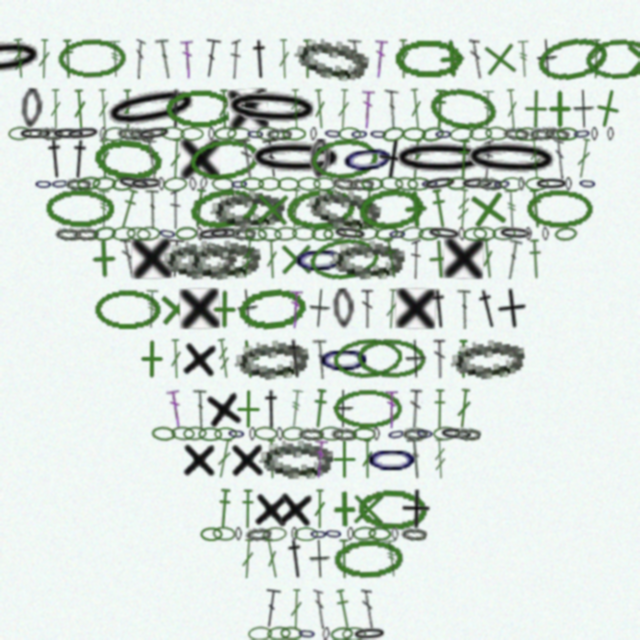chain: (99, 80, 204, 137), (221, 86, 323, 131), (461, 137, 562, 181), (246, 138, 346, 179), (304, 183, 383, 234), (292, 33, 371, 84), (534, 32, 610, 85), (390, 139, 490, 179), (187, 184, 260, 234), (307, 234, 381, 283), (449, 335, 526, 382), (427, 84, 500, 133), (187, 135, 261, 183), (233, 336, 310, 382), (185, 236, 262, 282), (284, 185, 356, 232), (236, 285, 307, 332), (356, 185, 427, 232), (92, 136, 163, 182), (210, 187, 285, 230), (332, 336, 403, 381), (162, 238, 237, 280), (330, 238, 405, 280), (309, 136, 379, 181), (356, 337, 427, 380), (259, 438, 333, 479), (333, 538, 403, 580), (357, 488, 427, 530), (45, 188, 114, 229), (57, 38, 126, 79), (333, 389, 403, 429), (165, 89, 234, 129), (94, 289, 162, 329), (526, 189, 594, 229), (394, 39, 462, 79), (338, 136, 398, 181), (584, 37, 640, 80), (0, 34, 48, 84), (291, 238, 348, 280), (364, 439, 420, 479), (316, 339, 372, 379), (332, 288, 355, 329), (20, 88, 43, 129), (309, 139, 331, 179), (116, 174, 152, 193), (422, 174, 458, 193), (136, 124, 172, 143), (196, 225, 232, 243), (332, 225, 368, 242), (426, 225, 462, 242), (65, 125, 101, 142), (439, 426, 474, 442), (208, 226, 243, 241), (498, 226, 533, 241), (129, 176, 164, 191), (460, 176, 495, 191), (352, 626, 387, 640), (534, 177, 569, 191), (18, 127, 53, 141), (51, 127, 86, 141), (331, 175, 358, 192), (543, 125, 570, 142), (381, 125, 406, 143), (420, 125, 445, 143), (399, 225, 425, 242), (245, 526, 272, 542), (128, 126, 155, 142), (92, 225, 117, 242), (374, 225, 399, 242), (76, 175, 101, 192), (111, 175, 136, 192), (262, 526, 287, 542), (126, 226, 151, 242), (257, 226, 282, 242), (163, 176, 188, 192), (394, 176, 419, 192), (102, 126, 127, 142), (449, 126, 474, 142), (402, 426, 428, 441), (230, 226, 256, 241), (476, 176, 502, 191), (37, 126, 63, 141), (117, 126, 143, 141), (503, 126, 529, 141), (529, 126, 555, 141), (244, 226, 268, 242), (554, 226, 578, 242), (211, 176, 235, 192), (352, 526, 377, 541), (151, 426, 176, 441), (111, 226, 136, 241), (136, 226, 161, 241), (379, 176, 404, 191), (160, 126, 185, 141), (401, 527, 427, 541), (298, 427, 324, 441), (331, 427, 357, 441), (455, 427, 481, 441), (55, 227, 81, 241), (73, 227, 99, 241), (65, 177, 91, 191), (348, 177, 374, 191), (266, 127, 292, 141), (212, 526, 236, 541), (171, 426, 195, 441), (183, 426, 207, 441), (254, 426, 278, 441), (281, 426, 305, 441), (319, 426, 343, 441), (433, 426, 457, 441), (292, 226, 316, 241), (355, 226, 379, 241), (492, 226, 516, 241), (92, 176, 116, 191), (8, 126, 32, 141), (157, 225, 178, 242), (368, 526, 391, 541), (175, 226, 198, 241), (274, 226, 297, 241), (473, 226, 496, 241), (446, 176, 469, 191), (214, 126, 237, 141), (256, 126, 279, 141), (469, 126, 492, 141), (485, 126, 508, 141), (248, 626, 272, 640), (267, 626, 291, 640), (330, 626, 354, 640), (294, 527, 318, 541), (198, 427, 222, 441), (352, 427, 376, 441), (386, 426, 407, 442), (323, 227, 347, 241), (463, 227, 487, 241), (240, 177, 264, 191), (297, 177, 321, 191), (407, 177, 431, 191), (500, 177, 524, 191), (525, 177, 549, 191), (180, 127, 204, 141), (227, 127, 251, 141), (282, 127, 306, 141), (402, 127, 426, 141), (515, 127, 539, 141), (280, 626, 303, 640), (200, 527, 223, 541), (214, 427, 237, 441), (311, 227, 334, 241), (418, 227, 441, 241), (258, 177, 281, 191), (277, 177, 300, 191), (313, 177, 336, 191), (361, 177, 384, 191), (338, 127, 361, 141), (556, 127, 579, 141), (492, 176, 512, 192), (342, 627, 366, 640), (415, 426, 435, 441), (50, 176, 70, 191), (420, 176, 440, 191), (323, 126, 343, 141), (572, 126, 592, 141), (324, 526, 343, 541), (227, 426, 246, 441), (578, 176, 597, 191), (297, 626, 317, 640), (309, 527, 328, 541), (388, 227, 407, 241), (34, 177, 53, 191), (230, 177, 249, 191), (246, 127, 265, 141), (350, 127, 369, 141), (369, 127, 388, 141), (434, 127, 453, 141), (199, 176, 208, 191), (391, 527, 399, 541), (276, 427, 284, 441), (196, 227, 204, 241), (458, 227, 466, 241), (189, 177, 197, 191), (99, 127, 107, 141), (322, 627, 330, 640), (235, 527, 242, 541), (291, 527, 298, 541), (347, 527, 354, 541), (249, 427, 256, 441), (373, 427, 380, 441), (525, 227, 532, 241), (542, 227, 549, 241), (158, 177, 165, 191), (518, 177, 525, 191), (565, 177, 572, 191), (208, 127, 215, 141), (310, 127, 317, 141), (591, 127, 598, 141), (607, 127, 614, 141)
double: (501, 238, 523, 280), (261, 588, 282, 629), (201, 38, 222, 79), (262, 538, 282, 579), (214, 438, 234, 479), (406, 438, 426, 479), (262, 138, 282, 179), (154, 38, 174, 79), (166, 388, 185, 429), (142, 138, 161, 179), (238, 138, 257, 179), (574, 138, 593, 179), (455, 388, 473, 429), (167, 238, 185, 279), (347, 38, 365, 79), (359, 188, 376, 229), (312, 438, 328, 479), (120, 238, 136, 279), (480, 238, 496, 279), (408, 88, 424, 129), (372, 38, 388, 79), (312, 339, 328, 379), (384, 289, 400, 329), (168, 139, 184, 179), (408, 139, 424, 179), (72, 89, 88, 129), (312, 89, 328, 129), (384, 89, 400, 129), (504, 89, 520, 129), (240, 539, 255, 579), (192, 389, 207, 429), (408, 389, 423, 429), (288, 289, 303, 329), (456, 289, 471, 329), (144, 189, 159, 229), (288, 189, 303, 229), (96, 89, 111, 129), (336, 89, 351, 129), (360, 89, 375, 129), (180, 39, 195, 79), (289, 589, 303, 629), (313, 589, 327, 629), (361, 589, 375, 629), (265, 439, 279, 479), (169, 339, 183, 379), (433, 339, 447, 379), (265, 239, 279, 279), (97, 139, 111, 179), (217, 89, 231, 129), (37, 39, 51, 79), (277, 39, 291, 79), (469, 39, 483, 79), (313, 489, 326, 529), (361, 439, 374, 479), (385, 389, 398, 429), (361, 289, 374, 329), (49, 89, 62, 129), (121, 89, 134, 129), (133, 39, 146, 79), (397, 39, 410, 79), (482, 139, 494, 179), (554, 139, 566, 179), (170, 189, 181, 229), (230, 39, 241, 79), (411, 239, 421, 279)
half_double: (473, 287, 503, 330), (66, 138, 93, 180), (115, 188, 141, 230), (283, 538, 309, 579), (283, 338, 308, 379), (427, 288, 452, 329), (43, 138, 68, 179), (164, 88, 188, 129), (248, 39, 272, 79), (333, 588, 355, 630), (260, 389, 283, 429), (381, 238, 402, 279), (429, 188, 450, 229), (310, 388, 329, 429), (190, 188, 209, 229), (215, 488, 233, 529), (527, 188, 545, 229), (527, 239, 544, 279), (455, 139, 472, 179), (431, 89, 448, 129), (336, 539, 352, 579), (60, 39, 76, 79), (240, 489, 255, 529), (432, 389, 447, 429), (456, 339, 471, 379), (300, 39, 315, 79)
single: (584, 85, 631, 132), (465, 186, 511, 232), (226, 337, 270, 381), (478, 37, 522, 81), (203, 386, 245, 431), (430, 37, 473, 80), (155, 288, 197, 330), (419, 238, 461, 280), (251, 188, 293, 230), (395, 188, 437, 230), (227, 88, 269, 130), (276, 487, 316, 530), (180, 337, 220, 380), (179, 288, 220, 329), (395, 288, 436, 329), (83, 238, 124, 279), (131, 238, 172, 279), (443, 238, 484, 279), (252, 488, 291, 530), (324, 489, 364, 529), (348, 489, 388, 529), (324, 439, 364, 479), (228, 389, 268, 429), (132, 339, 172, 379), (204, 289, 244, 329), (276, 239, 316, 279), (180, 139, 220, 179), (516, 89, 556, 129), (540, 89, 580, 129), (374, 137, 410, 181), (494, 287, 529, 330), (181, 439, 218, 479), (229, 439, 266, 479), (400, 489, 431, 529), (236, 288, 260, 329), (308, 288, 332, 329), (536, 38, 559, 79), (309, 539, 331, 579), (405, 339, 427, 379), (573, 89, 595, 129), (333, 389, 354, 429), (622, 37, 640, 80)
treble: (238, 238, 257, 279), (383, 538, 401, 579), (287, 388, 305, 429), (215, 338, 233, 379), (11, 38, 28, 79), (144, 289, 160, 329), (504, 189, 520, 229), (516, 39, 532, 79), (456, 189, 471, 229), (528, 139, 543, 179), (108, 39, 123, 79), (433, 439, 447, 479), (97, 189, 111, 229), (289, 89, 303, 129), (481, 89, 495, 129), (589, 39, 603, 79)
